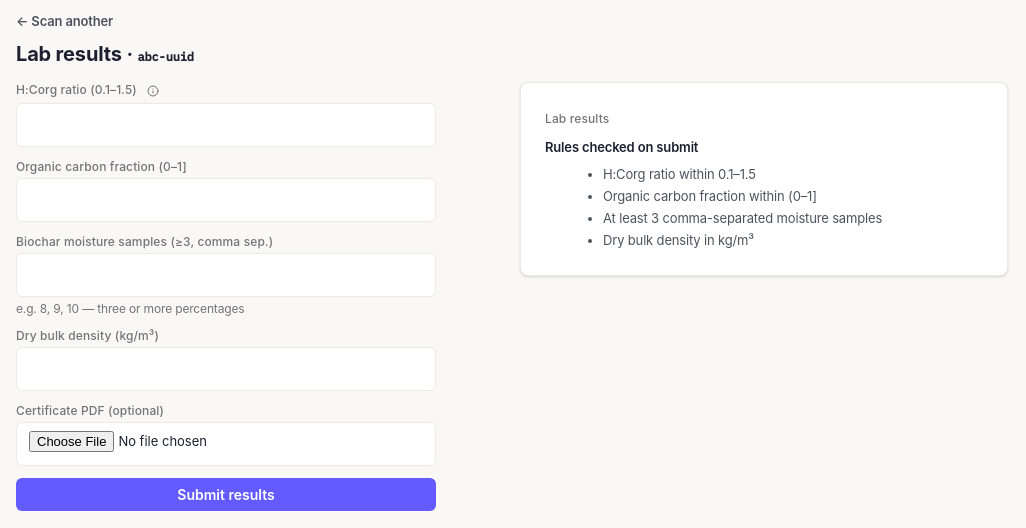
Test: LabEntry page › renders a validation message under the specific field it belongs to
One sample fails the ≥3 rule.
Step 1. Type "5" into the field labelled "Biochar moisture samples (≥3, comma sep.)" → (226, 275), box [16,253,436,297]
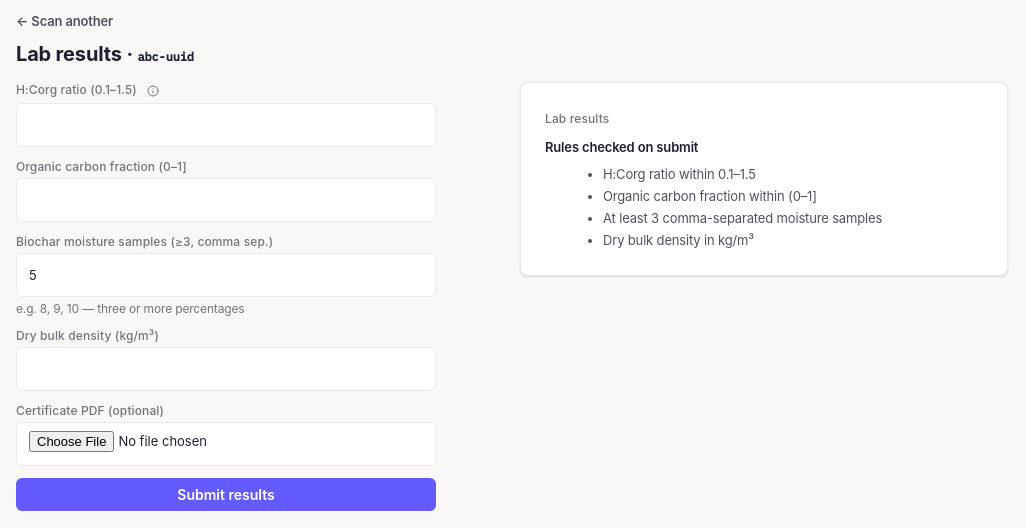
Step 2. Click the button "Submit results" → (226, 494), box [16,478,436,511]
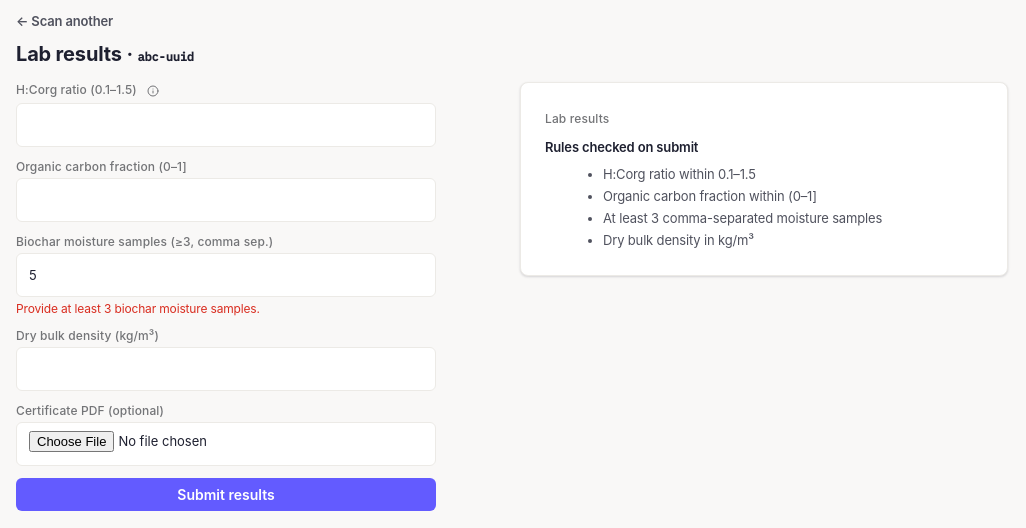
Now the message reads "Provide at least 3 biochar moisture samples.", box [16,301,260,316]
